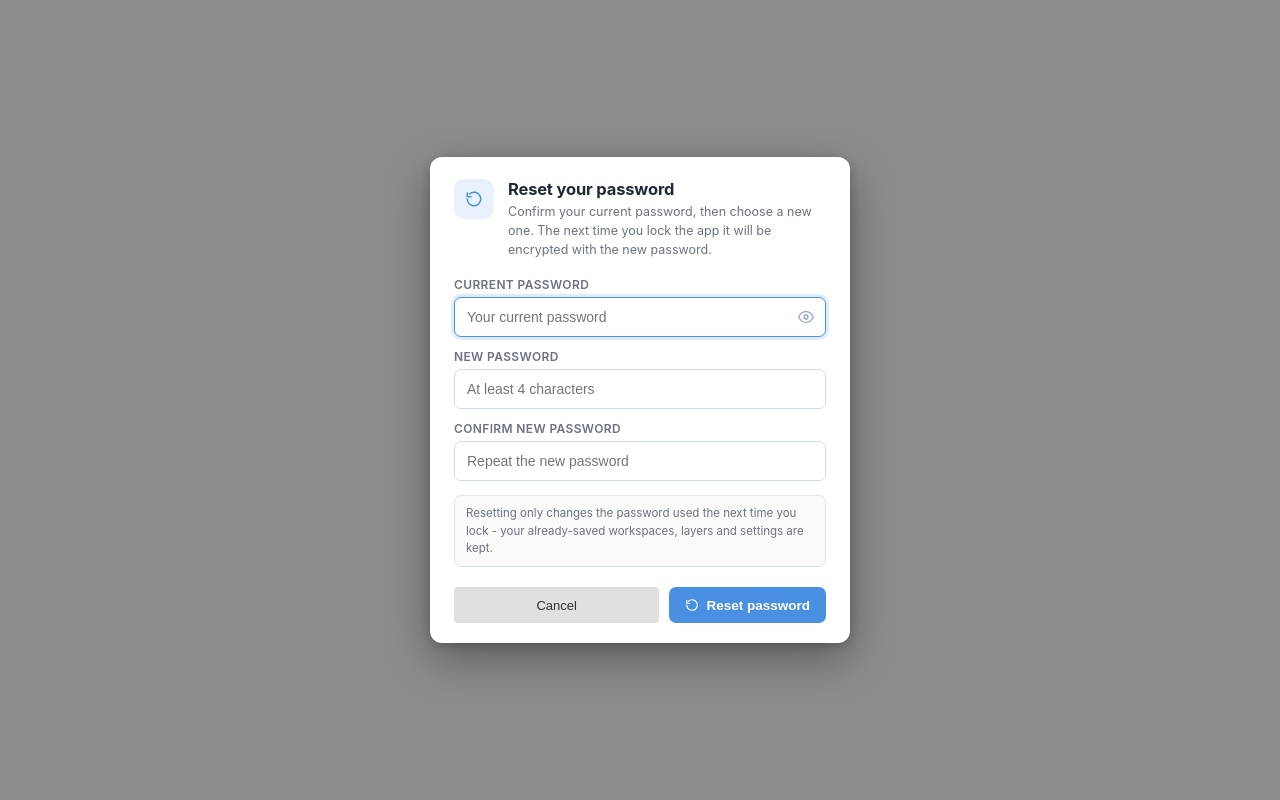
Test: ResetPasswordDialog rejects mismatched new passwords
Type "oldpass1" into the password field labelled "Current password".
click(640, 317); type("oldpass1")  # box [454,297,826,337]
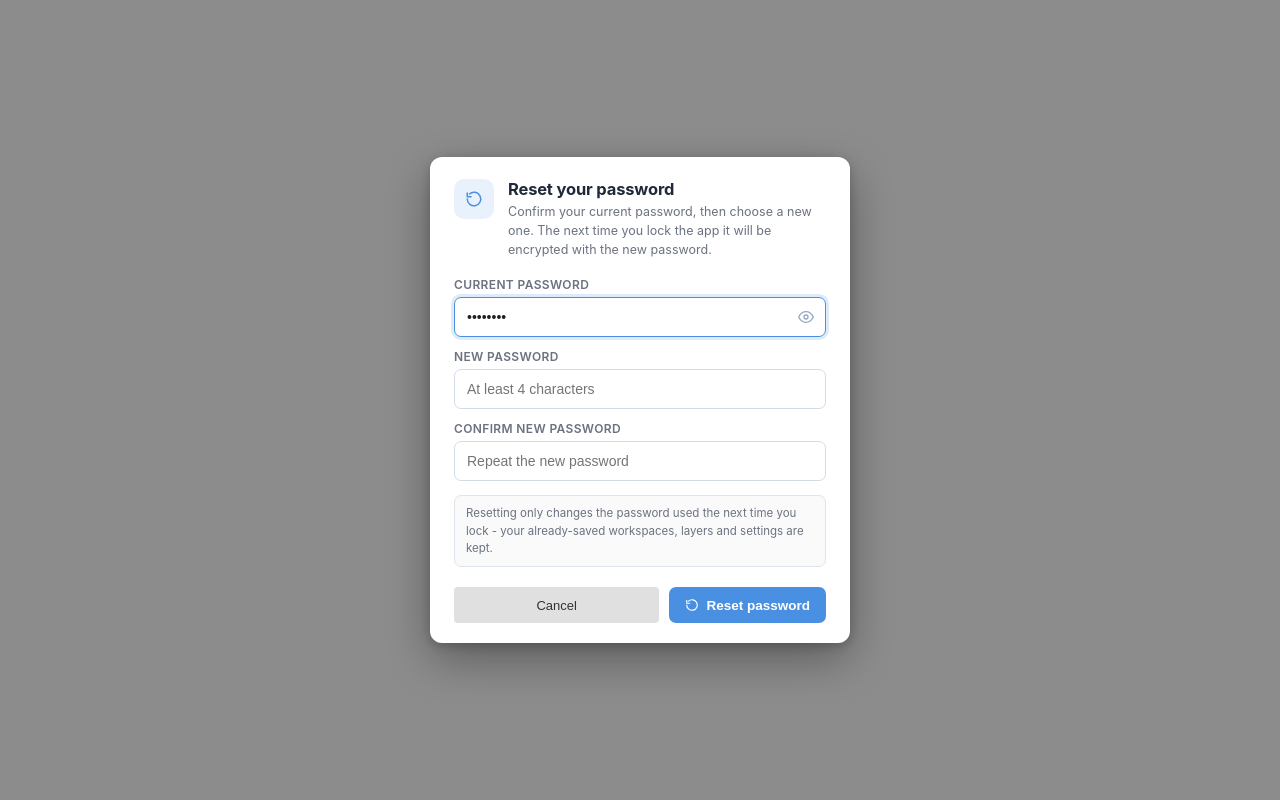
Type "newpass2" into the password field labelled "New password".
click(640, 389); type("newpass2")  # box [454,369,826,409]
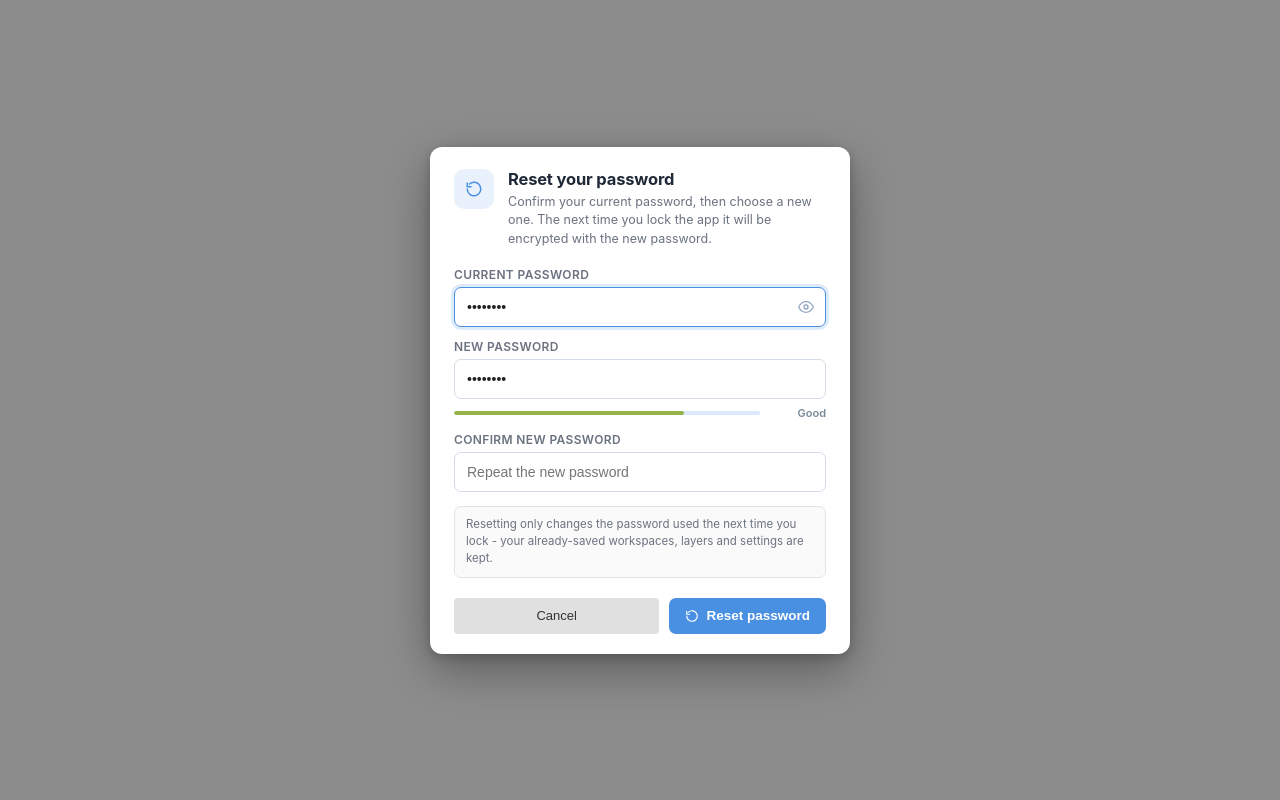
Type "different" into the password field labelled "Confirm new password".
click(640, 472); type("different")  # box [454,452,826,492]
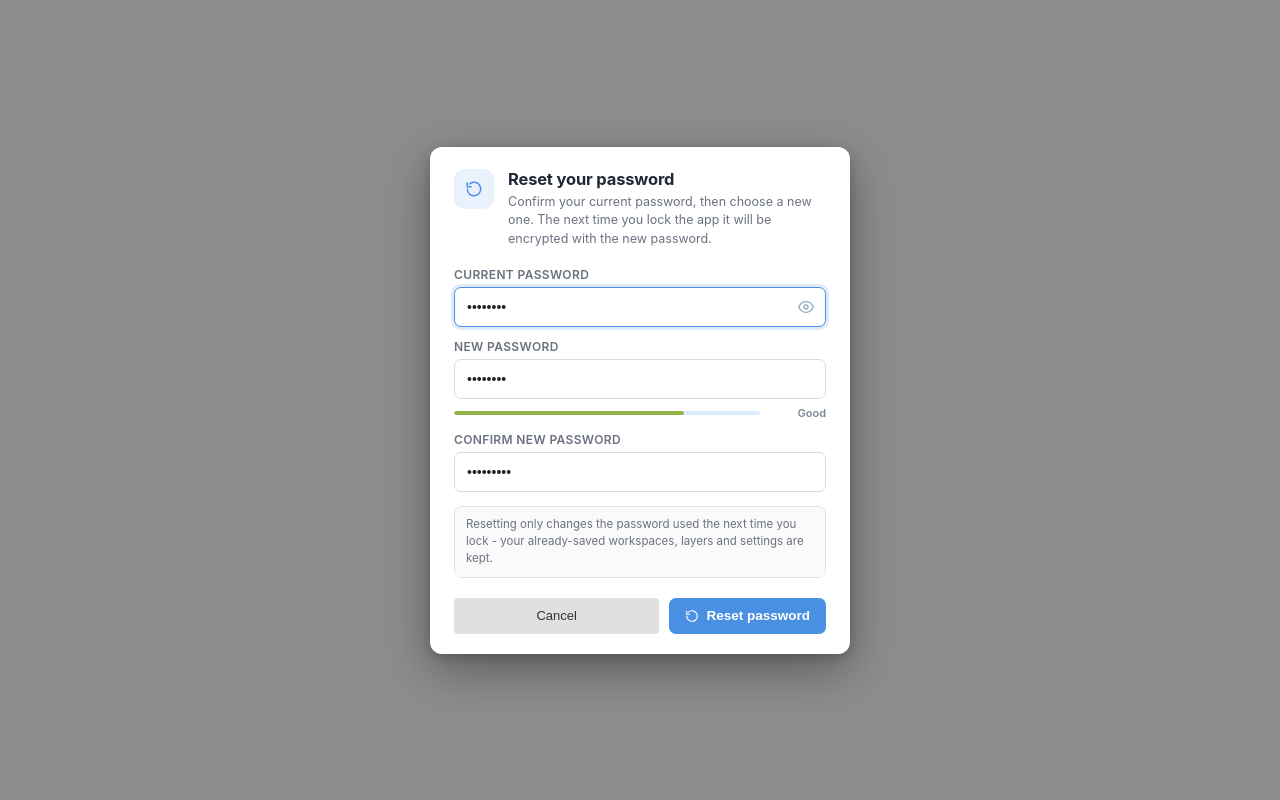
Click the button "Reset password".
click(748, 616)  # box [670,598,826,634]
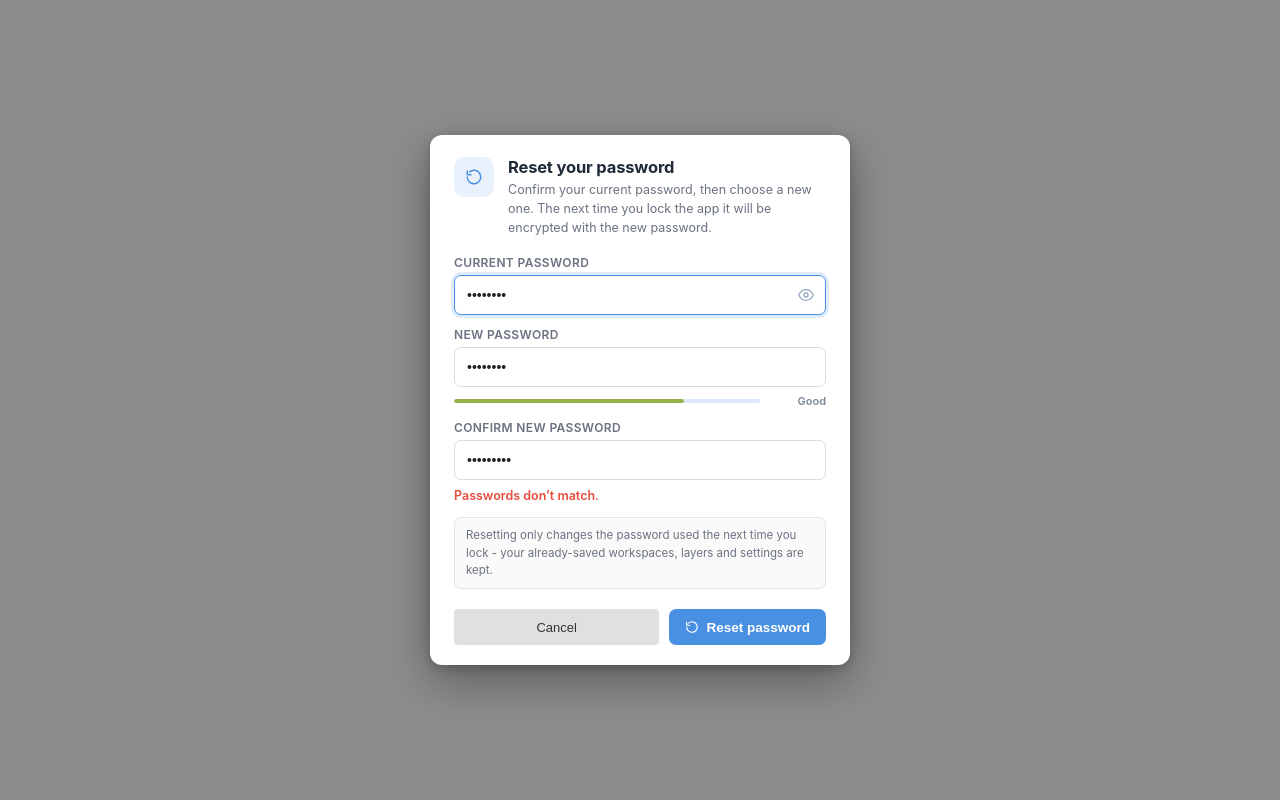
Expected: the text "Passwords don’t match." is shown, [454,488,599,503]
